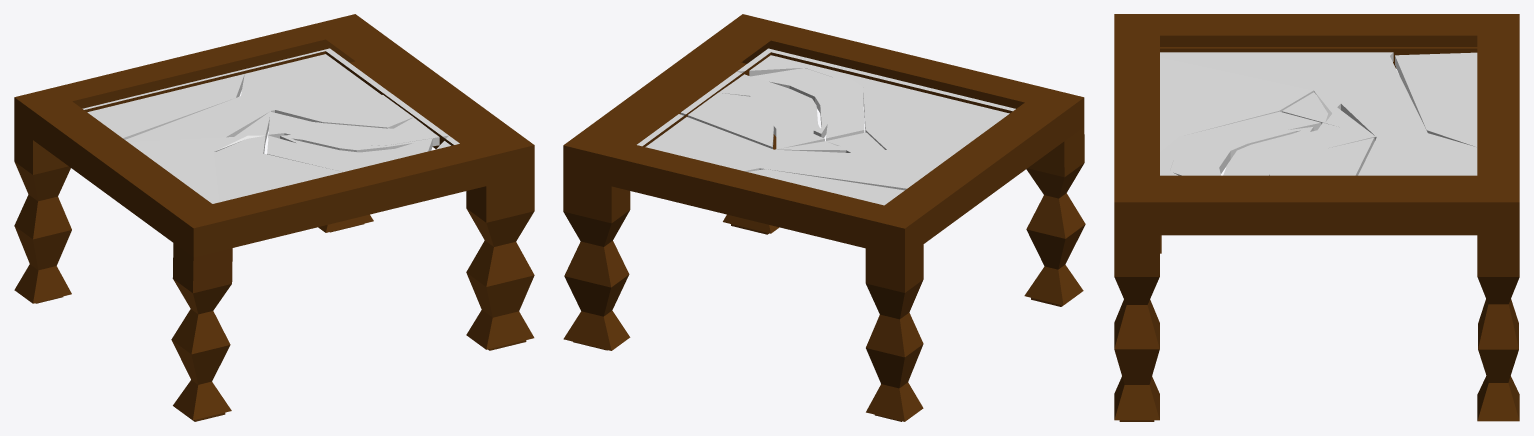
Rendered from mesinhadaora.fbx.
The picture shows the model from 3 angles, left to right: view 1: azimuth 30°, elevation 25°; view 2: azimuth 150°, elevation 25°; view 3: azimuth 270°, elevation 25°; orthographic projection. The views are drawn at different scales.
Parts seen in each view (by area): view 1: Cube, Plane; view 2: Cube, Plane; view 3: Cube, Plane.
Part boxes in pixels (left/top/right/bottom): Cube: left=14, top=14, right=534, bottom=421; Plane: left=82, top=48, right=459, bottom=203; Cube: left=563, top=14, right=1085, bottom=421; Plane: left=637, top=48, right=1015, bottom=205; Cube: left=1114, top=14, right=1519, bottom=421; Plane: left=1160, top=52, right=1477, bottom=175.
Bounding box in the file's own units: 515 × 283 × 467.
